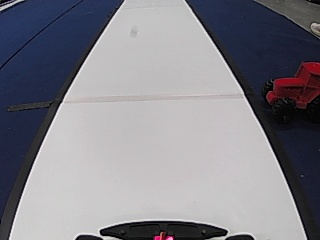tractor: (262, 58, 317, 126)
